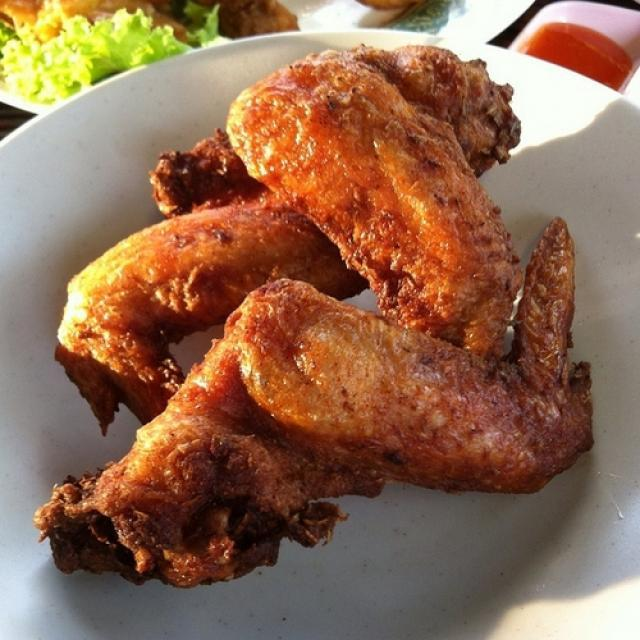Deep fried chicken wing: (44, 36, 590, 576)
